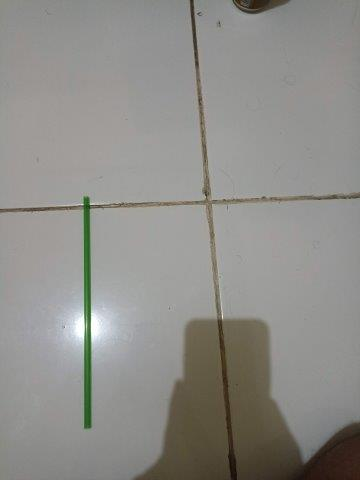sedotan: (84, 197, 92, 429)
